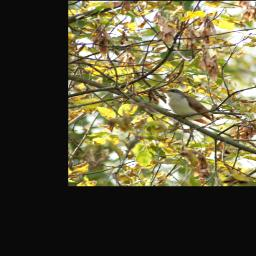Cuckoo: (156, 85, 222, 124)
